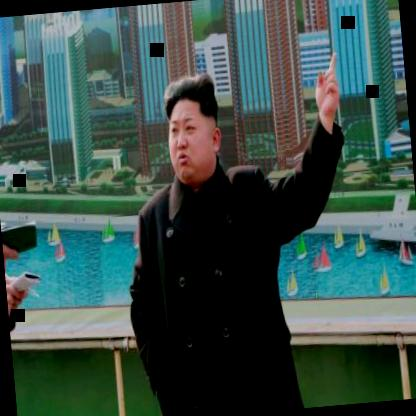head: (156, 70, 226, 188)
